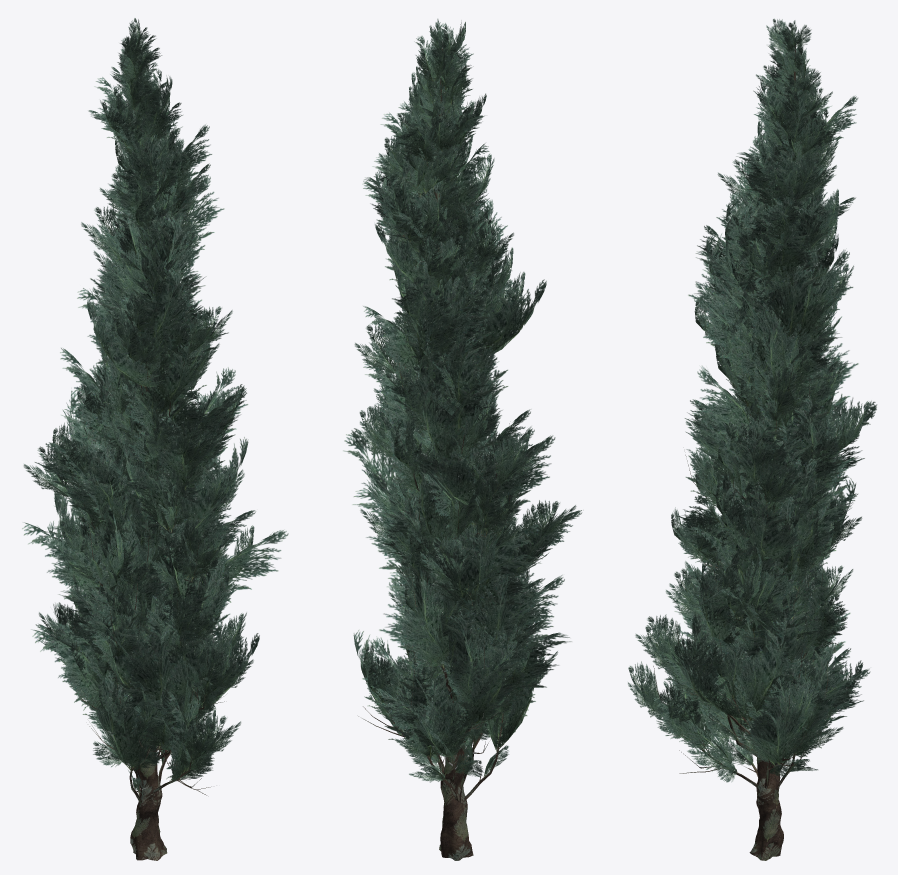
The model's file is cypress.glb.
The picture shows the model from 3 angles, left to right: view 1: azimuth 30°, elevation 25°; view 2: azimuth 150°, elevation 25°; view 3: azimuth 270°, elevation 25°; orthographic projection. The views are drawn at different scales.
Visible parts, largest first — view 1: Cypress_V2_test_Cypress_2_sided_0, Cypress_V2_test_Cypress_bark_0; view 2: Cypress_V2_test_Cypress_2_sided_0, Cypress_V2_test_Cypress_bark_0; view 3: Cypress_V2_test_Cypress_2_sided_0, Cypress_V2_test_Cypress_bark_0.
Boxes of the visible parts, x1,y1,x2,y2 form: Cypress_V2_test_Cypress_2_sided_0: (22, 18, 288, 794); Cypress_V2_test_Cypress_bark_0: (69, 62, 240, 860); Cypress_V2_test_Cypress_2_sided_0: (343, 19, 582, 782); Cypress_V2_test_Cypress_bark_0: (358, 48, 527, 860); Cypress_V2_test_Cypress_2_sided_0: (628, 18, 876, 782); Cypress_V2_test_Cypress_bark_0: (653, 46, 839, 860).
Size of the model in its own units: 1.66 by 5.31 by 1.49.
3 materials, 2 textured.
